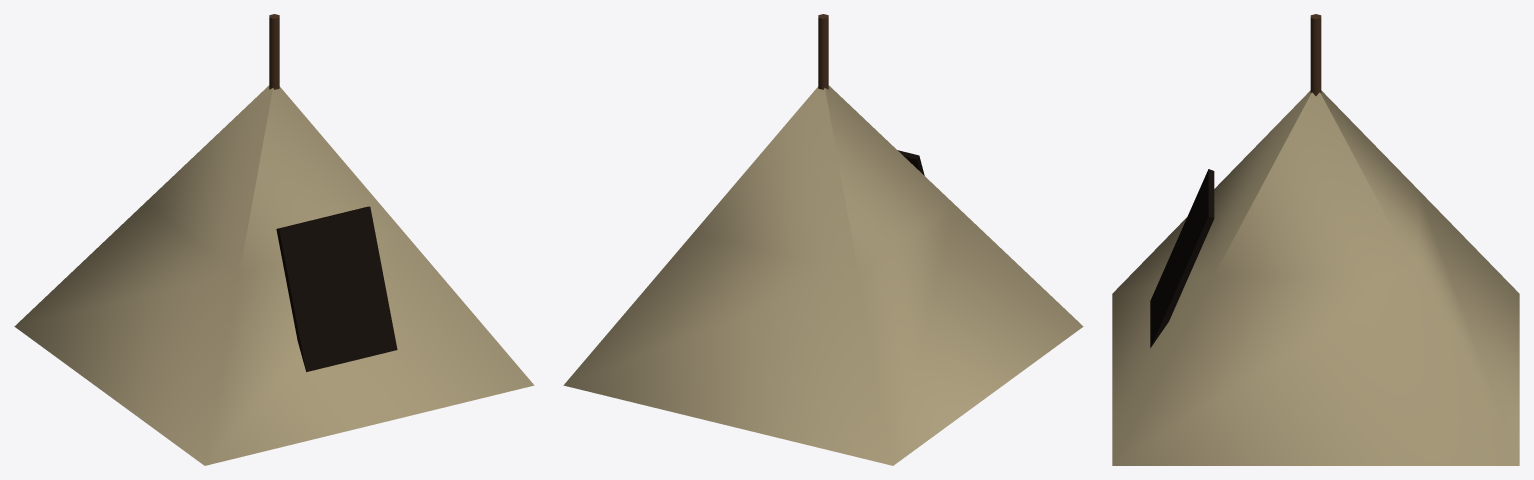
The model's file is tenda.glb.
3 views of the same model, side by side, from view 1: azimuth 30°, elevation 25°; view 2: azimuth 150°, elevation 25°; view 3: azimuth 270°, elevation 25° (orthographic). The views are drawn at different scales.
Visible parts, largest first — view 1: Prop; view 2: Prop; view 3: Prop.
Boxes of the visible parts, x1=… form: Prop: x1=14, y1=14, x2=534, y2=465; Prop: x1=563, y1=14, x2=1083, y2=465; Prop: x1=1112, y1=14, x2=1519, y2=465.
Bounding box in the file's own units: 3.25 × 3.2 × 3.25.
